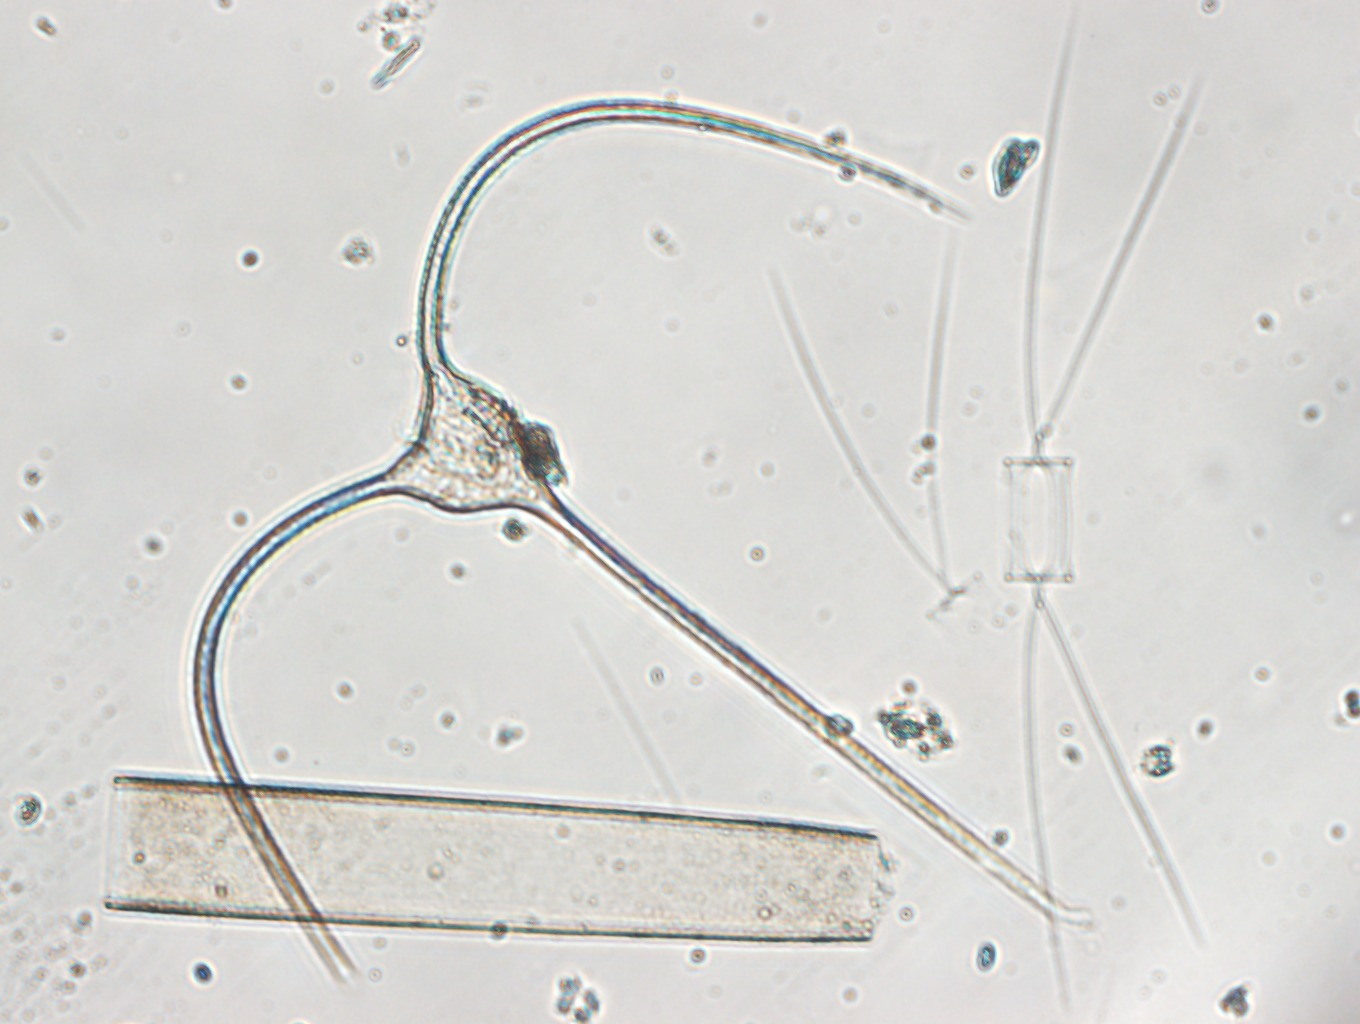ceratium trichoceros: (171, 84, 994, 982)
chaetoceros: (997, 22, 1232, 1009)
